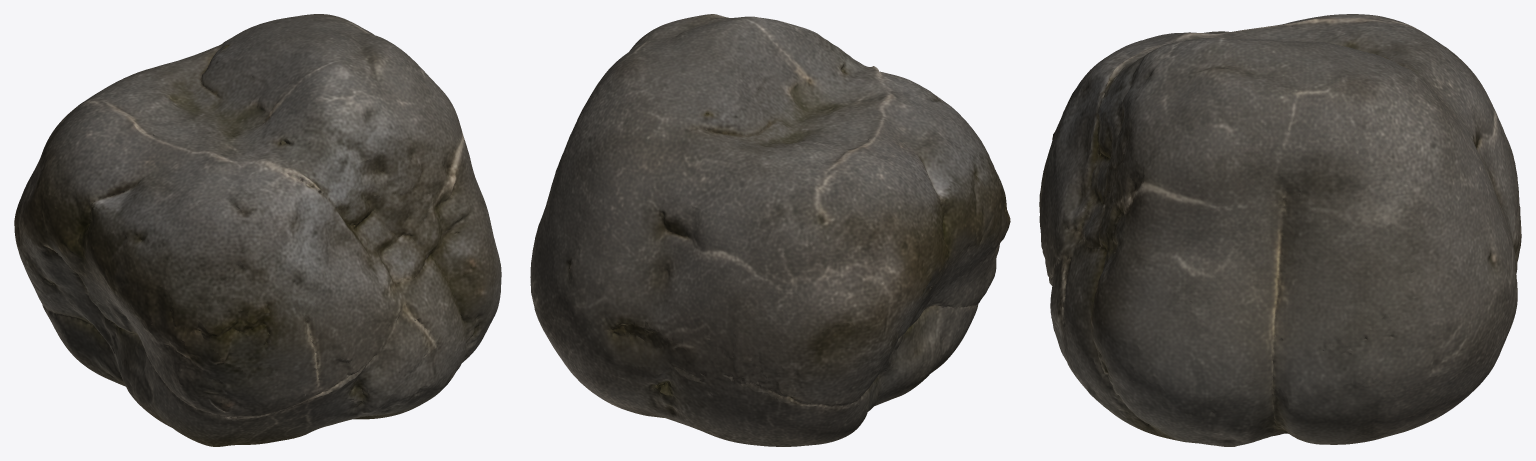
File: river-boulder-hero-v21.glb
3 views of the same model, side by side, from view 1: azimuth 30°, elevation 25°; view 2: azimuth 150°, elevation 25°; view 3: azimuth 270°, elevation 25° (orthographic). The views are drawn at different scales.
Visible parts, largest first — view 1: world; view 2: world; view 3: world.
Part boxes in pixels (x1,y1,x2,y2): world: (14,14,501,446); world: (530,14,1010,446); world: (1039,14,1521,446).
Size of the model in its own units: 0.35 by 0.2983 by 0.3488.
1 material, 1 textured.
